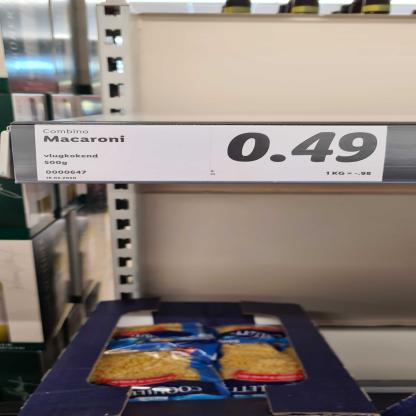prtg: (35, 126, 389, 183)
